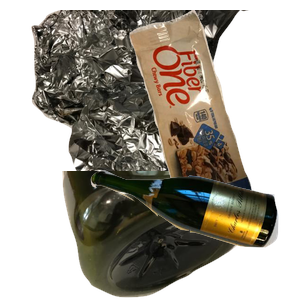glass: (88, 167, 300, 300)
metal: (29, 10, 269, 190)
plastic: (60, 171, 300, 300)
trash: (127, 10, 300, 190)
